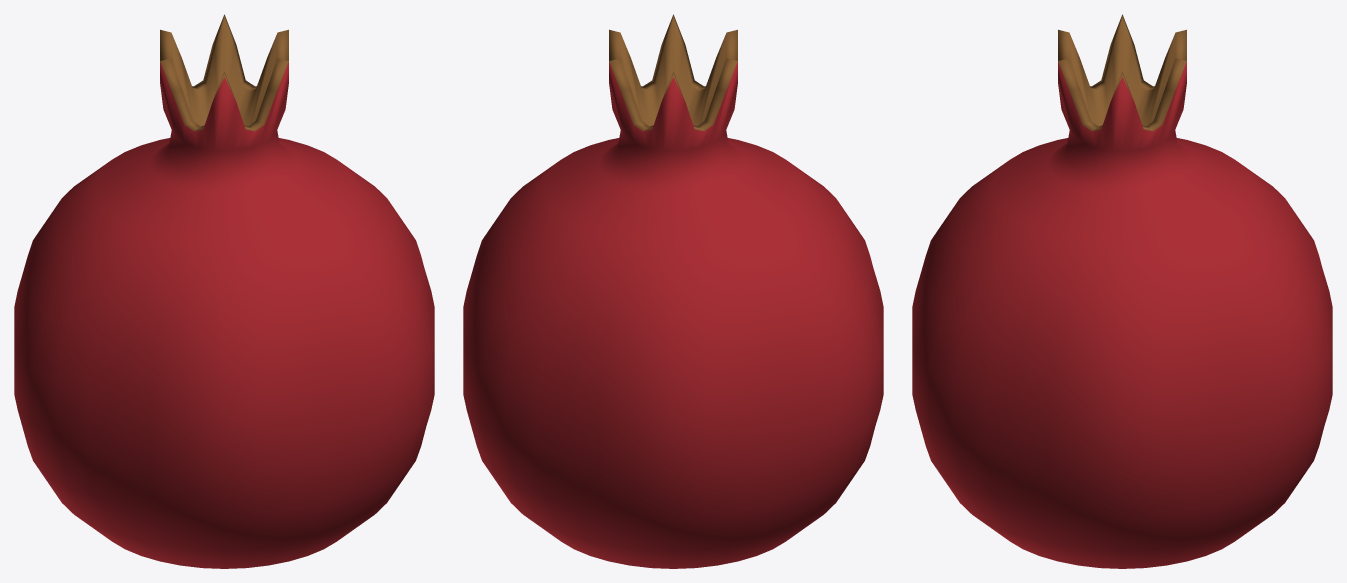
The model's file is NEW_RECOVERY_094_LOD1.fbx.
3 views of the same model, side by side, from view 1: azimuth 30°, elevation 25°; view 2: azimuth 150°, elevation 25°; view 3: azimuth 270°, elevation 25° (orthographic).
Parts seen in each view (by area): view 1: Pomegranate; view 2: Pomegranate; view 3: Pomegranate.
Boxes of the visible parts, <box> form: Pomegranate: <box>14,14,434,568</box>; Pomegranate: <box>463,14,883,568</box>; Pomegranate: <box>912,14,1332,568</box>.
Size of the model in its own units: 10.22 by 9.62 by 12.6.
